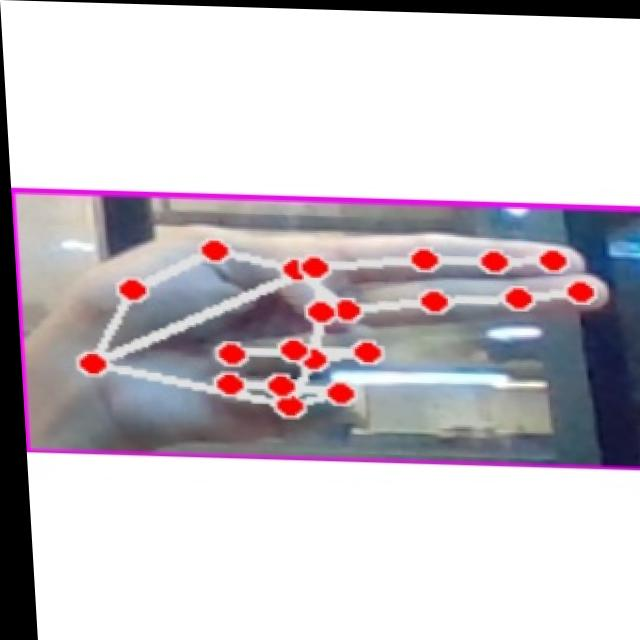H: (25, 205, 628, 459)
